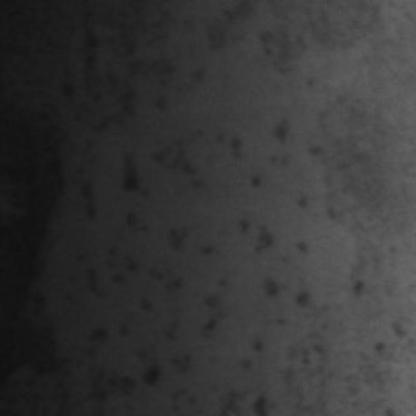pitted_surface: (87, 9, 356, 397)
